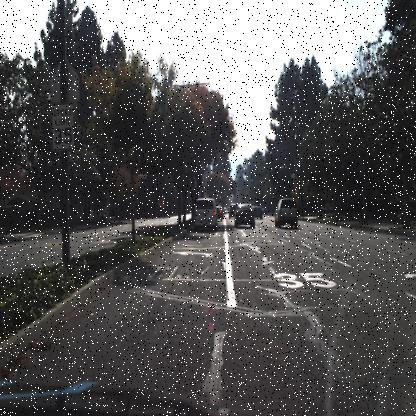car: (273, 194, 301, 231), (188, 200, 214, 235), (233, 202, 257, 232), (314, 199, 335, 218), (247, 208, 262, 224), (252, 203, 264, 221), (228, 201, 238, 221), (214, 206, 224, 222)
